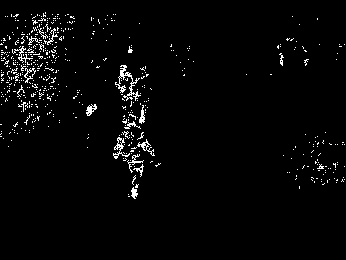person: (112, 115, 156, 201), (134, 65, 151, 124), (116, 64, 134, 110)
